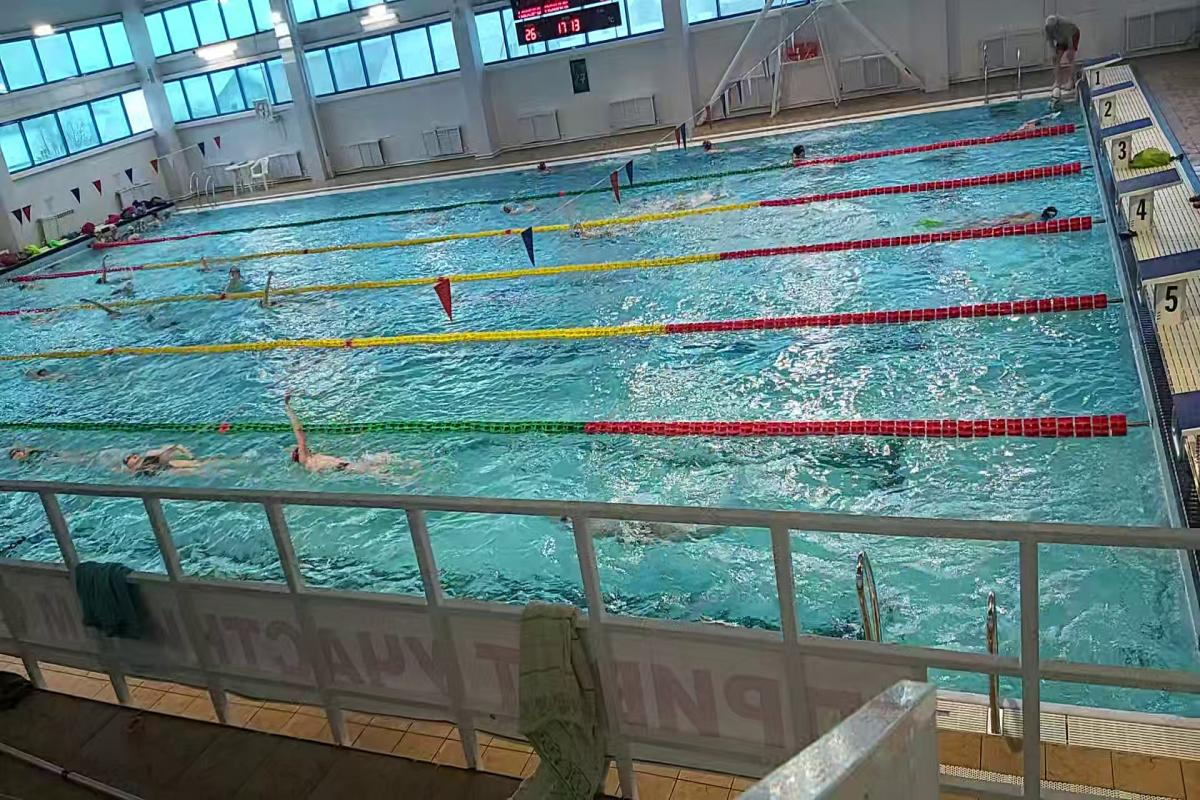swimmer: (274, 397, 422, 489), (112, 436, 241, 479), (1, 441, 97, 473), (944, 202, 1066, 222), (24, 359, 90, 390), (257, 274, 311, 310), (78, 296, 133, 330), (90, 251, 130, 282), (218, 259, 251, 294), (491, 201, 549, 220)
